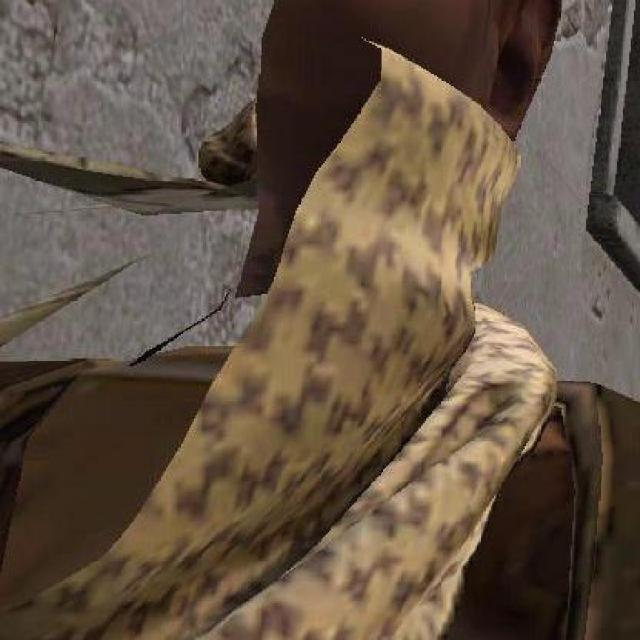Dead: (0, 0, 635, 638)
T-Body: (0, 0, 638, 638)
